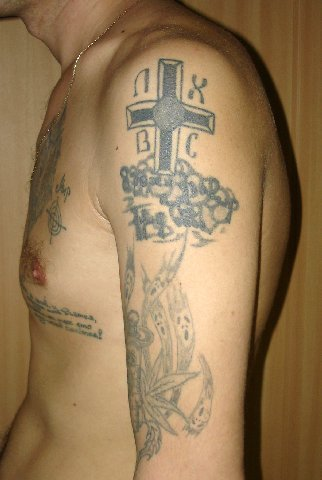tatu9_krest: (124, 62, 212, 162)
